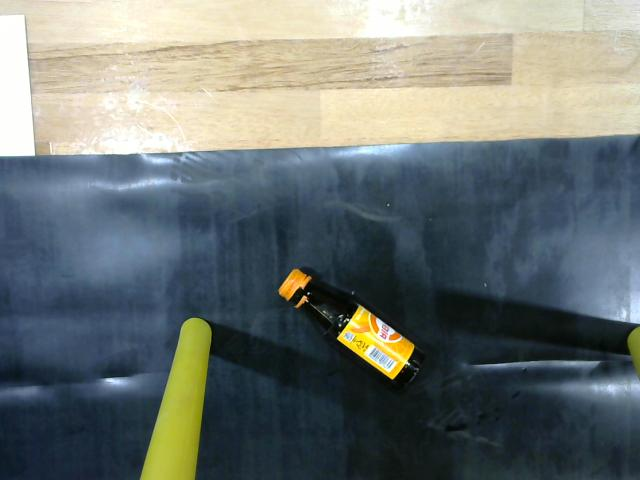glass: (264, 269, 436, 396)
